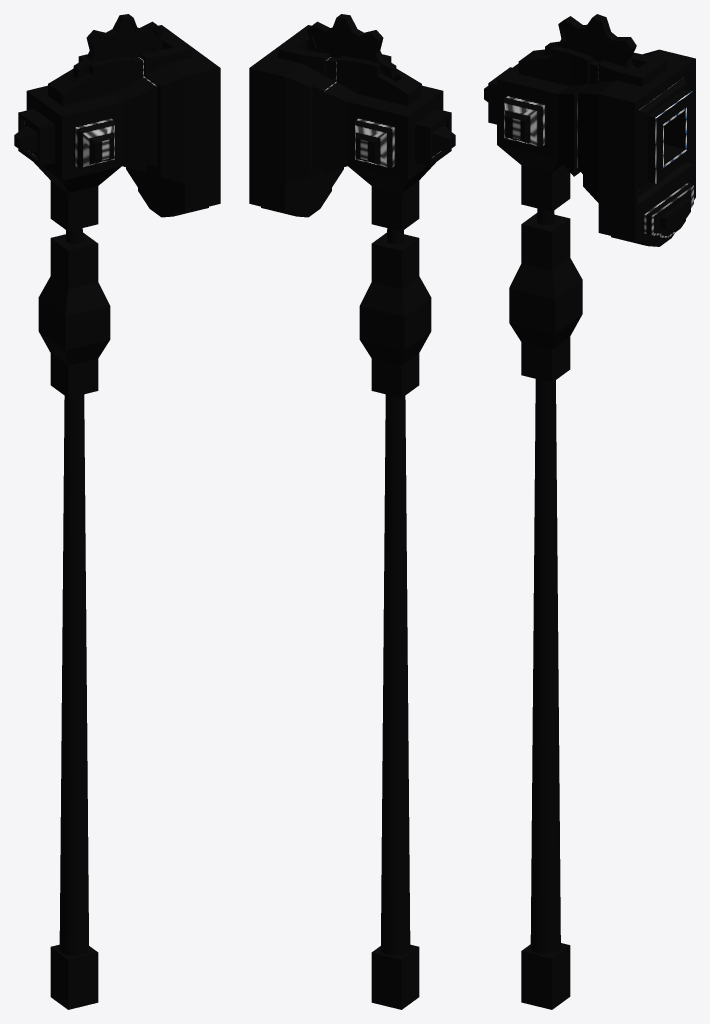
The model's file is Dispenser_2_0.fbx.
The picture shows the model from 3 angles, left to right: view 1: azimuth 30°, elevation 25°; view 2: azimuth 150°, elevation 25°; view 3: azimuth 330°, elevation 25°; orthographic projection. The views are drawn at different scales.
Parts seen in each view (by area): view 1: Dispenser, Dispenser_Prop_0, Dispenser_Prop_1, Gear; view 2: Dispenser, Dispenser_Prop_0, Dispenser_Prop_1, Gear; view 3: Dispenser, Dispenser_Prop_0, Dispenser_Prop_1, Gear.
Boxes of the visible parts, <box> form: Dispenser: <box>14,25,220,217</box>; Dispenser_Prop_0: <box>50,181,98,1009</box>; Dispenser_Prop_1: <box>38,232,110,397</box>; Gear: <box>73,14,162,78</box>; Dispenser: <box>249,25,455,217</box>; Dispenser_Prop_0: <box>371,181,419,1009</box>; Dispenser_Prop_1: <box>359,232,431,397</box>; Gear: <box>307,14,396,78</box>; Dispenser: <box>484,45,695,246</box>; Dispenser_Prop_0: <box>521,165,570,1009</box>; Dispenser_Prop_1: <box>509,213,582,382</box>; Gear: <box>544,14,637,69</box>.
Bounding box in the file's own units: 1.83 × 9.08 × 1.01.
Materials: 1 (1 with a texture image).
